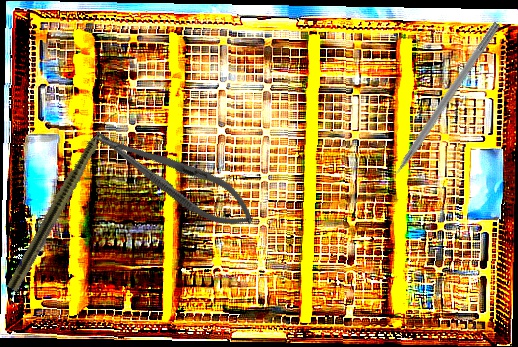Handpiece: (5, 106, 120, 294)
Needle Holder: (85, 114, 263, 240)
Pusher: (376, 20, 502, 197)
